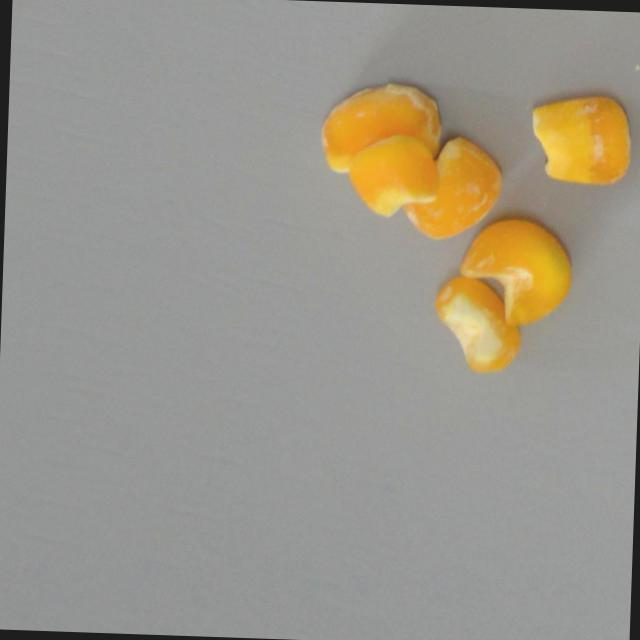no_canjicado: (342, 129, 441, 220)
pelicula: (453, 212, 576, 330), (314, 75, 444, 179), (396, 131, 506, 243), (526, 89, 637, 187), (429, 271, 526, 375)
